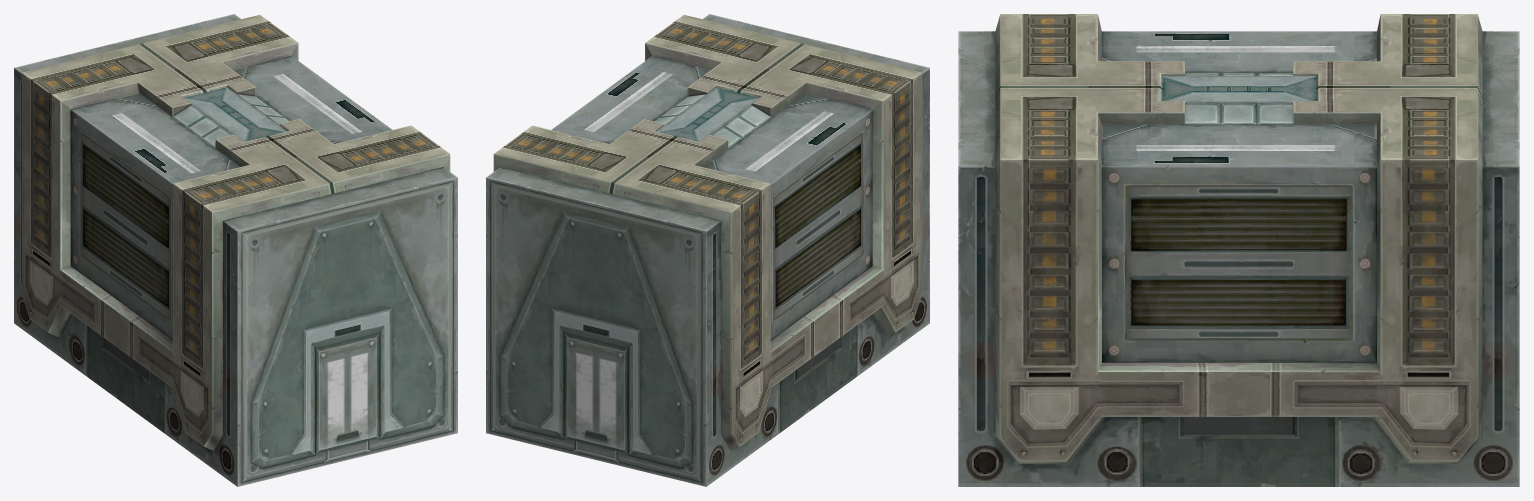
The model's file is all_item_con_storage_crate.glb.
3 views of the same model, side by side, from view 1: azimuth 30°, elevation 25°; view 2: azimuth 150°, elevation 25°; view 3: azimuth 270°, elevation 25° (orthographic). The views are drawn at different scales.
Visible parts, largest first — view 1: all_item_con_storage_crate; view 2: all_item_con_storage_crate; view 3: all_item_con_storage_crate.
Boxes of the visible parts, left/top/right/bottom form: all_item_con_storage_crate: left=14, top=14, right=457, bottom=486; all_item_con_storage_crate: left=486, top=14, right=929, bottom=486; all_item_con_storage_crate: left=958, top=14, right=1519, bottom=486.
Bounding box in the file's own units: 0.16 × 0.17 × 0.26.
1 material, 1 textured.
